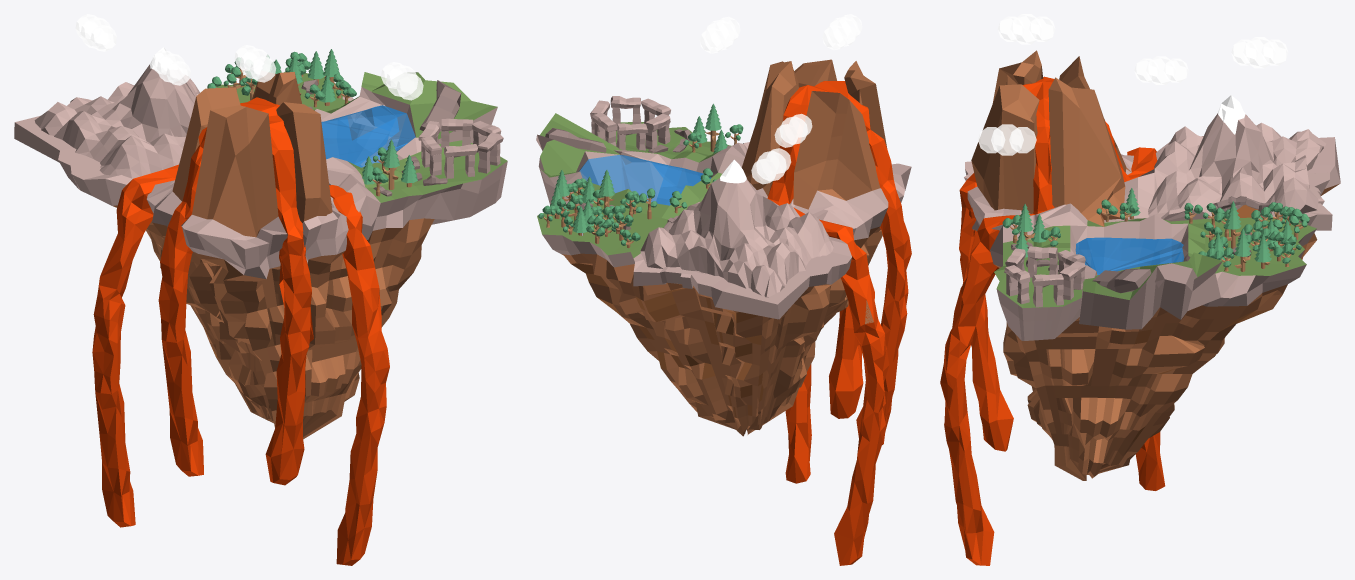
File: island_lowpoly.glb
3 views of the same model, side by side, from view 1: azimuth 30°, elevation 25°; view 2: azimuth 150°, elevation 25°; view 3: azimuth 270°, elevation 25° (orthographic). The views are drawn at different scales.
Visible parts, largest first — view 1: Island_Base/Mountain, Lava, Rocks, Forest, Cloud; view 2: Island_Base/Mountain, Lava, Forest, Rocks, Cloud; view 3: Island_Base/Mountain, Lava, Forest, Cloud, Rocks.
Boxes of the visible parts, x1,y1,x2,y2 form: Island_Base/Mountain: (14,47,507,439); Lava: (92,97,389,565); Rocks: (301,79,503,196); Forest: (207,49,417,196); Cloud: (75,14,423,100); Island_Base/Mountain: (536,59,911,436); Lava: (767,81,911,565); Forest: (538,103,743,248); Rocks: (545,96,730,232); Cloud: (699,14,862,184); Island_Base/Mountain: (964,50,1340,480); Lava: (940,76,1165,565); Forest: (1002,188,1309,271); Cloud: (978,14,1288,155); Rocks: (1004,196,1271,307).
Bounding box in the file's own units: 6.56 × 8.64 × 6.08.
